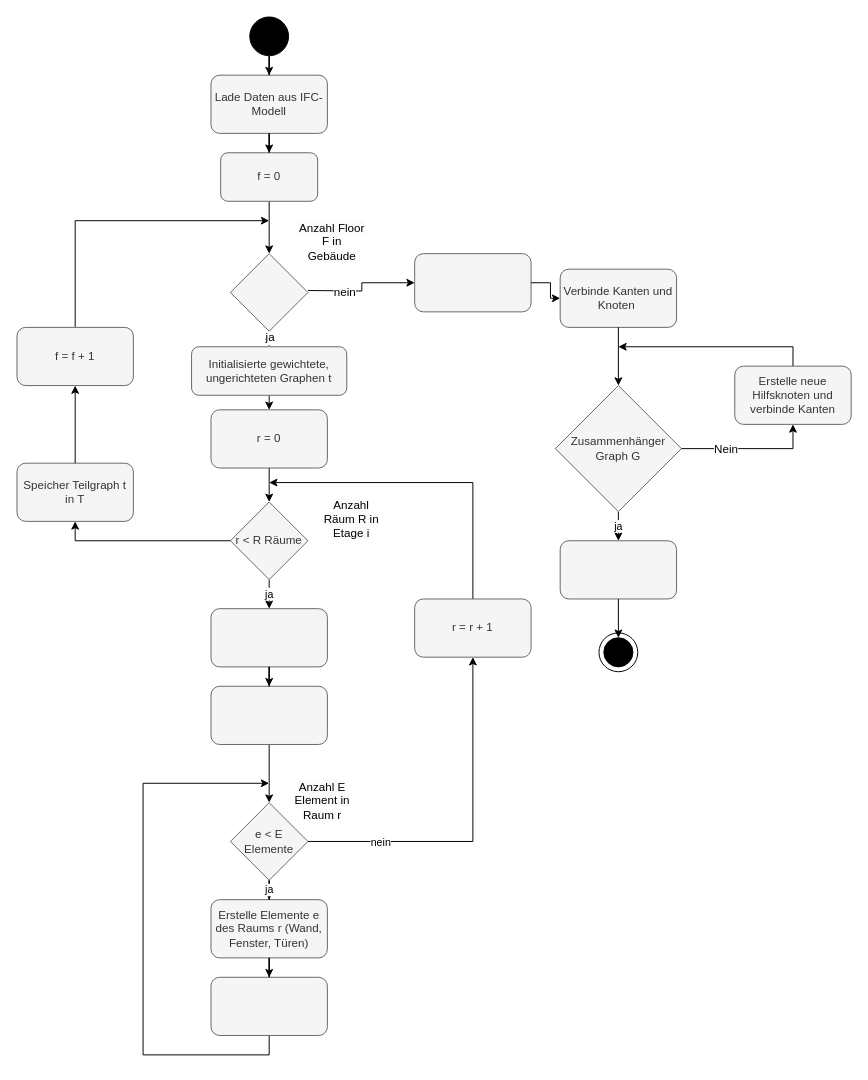
The diagram is 868 pixels wide and 1080 high, and some of its shapes have lost their labels. Here are the shapes that lost their labels. From the top down, the centre of each, then its label:
At point (268, 292): "f < F Floor".
At point (472, 282): "Erstelle Hauptgraphen G aus Teilgraphen T".
At point (618, 569): "Speicher Gebäudegraph als json-Datei".
At point (268, 637): "Erstelle Raum r von Etage f".
At point (268, 714): "e = 0".
At point (268, 1005): "e = e + 1".
